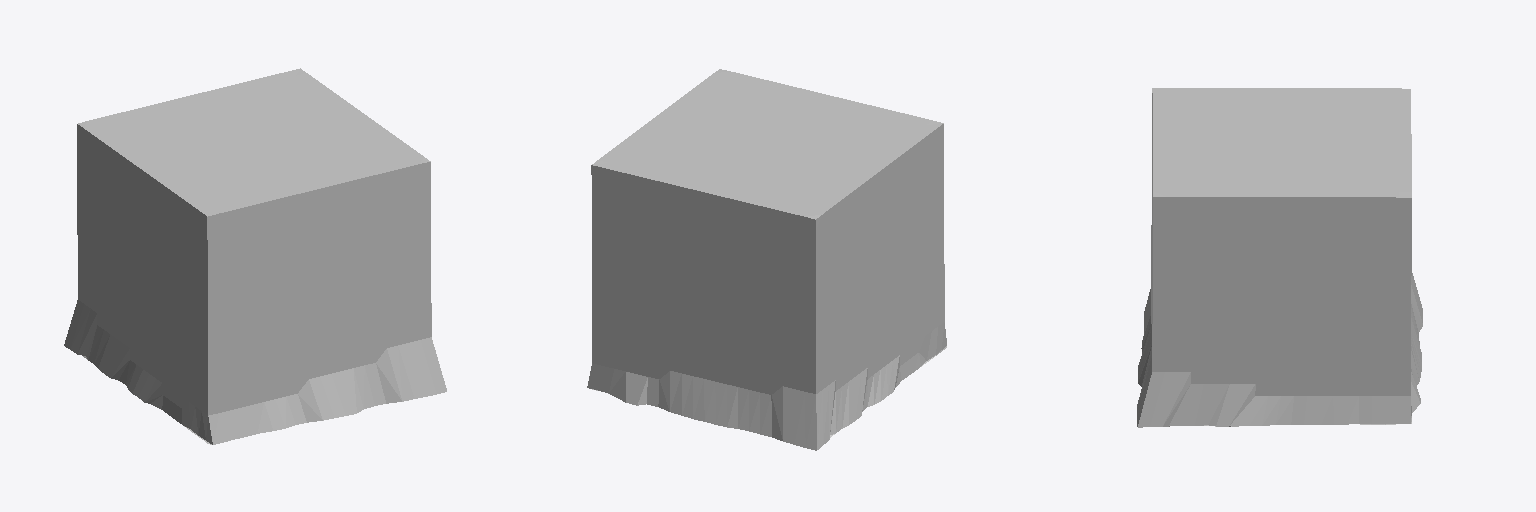
The model's file is mod0118.obj.
The picture shows the model from 3 angles: view 1: azimuth 30°, elevation 25°; view 2: azimuth 150°, elevation 25°; view 3: azimuth 270°, elevation 25°; orthographic projection.
Visible parts, largest first — view 1: Box001; view 2: Box001; view 3: Box001.
Part boxes in pixels (bbox=[...]): Box001: bbox=[64, 68, 446, 444]; Box001: bbox=[587, 69, 946, 450]; Box001: bbox=[1137, 88, 1422, 427].
Bounding box in the file's own units: 0.5799 × 0.5231 × 0.5979.